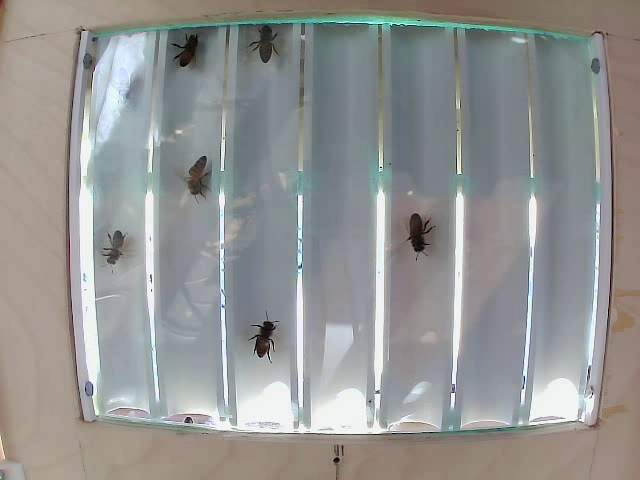bee: (245, 25, 290, 62), (178, 153, 213, 199), (177, 34, 214, 77), (257, 322, 295, 363), (399, 212, 436, 254), (94, 229, 129, 268)
